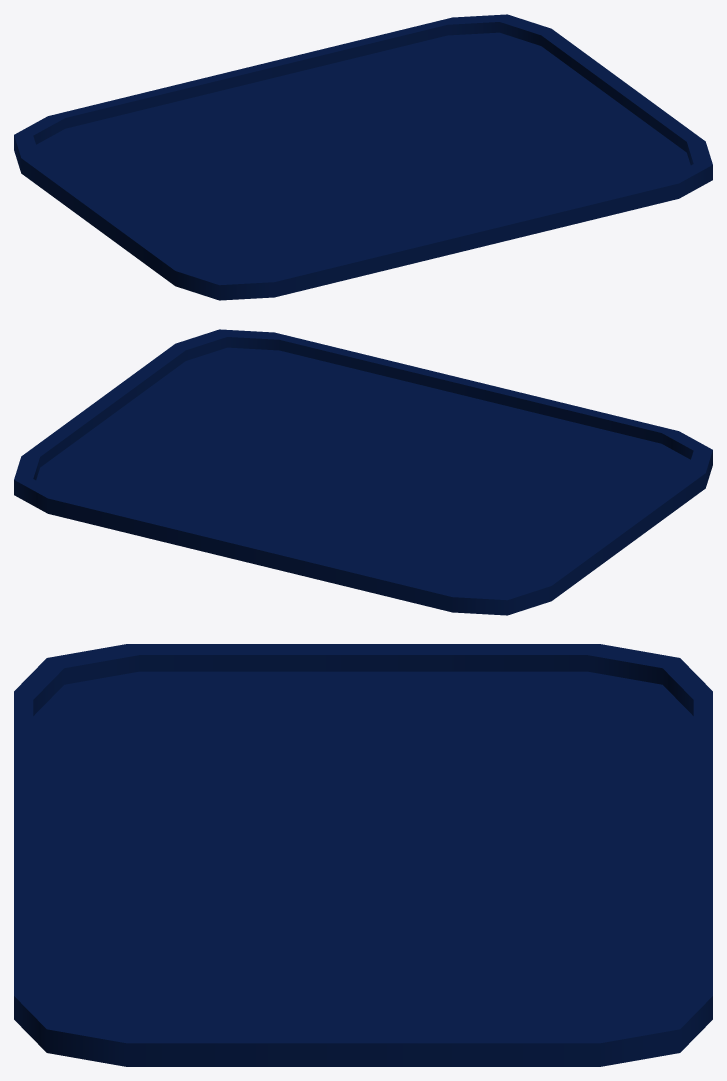
File: Hea_Ba_Curtain_Thing_In_Toilet.fbx
3 views of the same model, one above another, from view 1: azimuth 30°, elevation 25°; view 2: azimuth 150°, elevation 25°; view 3: azimuth 270°, elevation 25° (orthographic). The views are drawn at different scales.
Visible parts, largest first — view 1: Undersurface_Bath_I3; view 2: Undersurface_Bath_I3; view 3: Undersurface_Bath_I3.
Boxes of the visible parts, left/top/right/bottom form: Undersurface_Bath_I3: left=14, top=14, right=712, bottom=300; Undersurface_Bath_I3: left=14, top=329, right=712, bottom=615; Undersurface_Bath_I3: left=14, top=644, right=712, bottom=1066.
Bounding box in the file's own units: 57.56 × 1.59 × 42.61.
